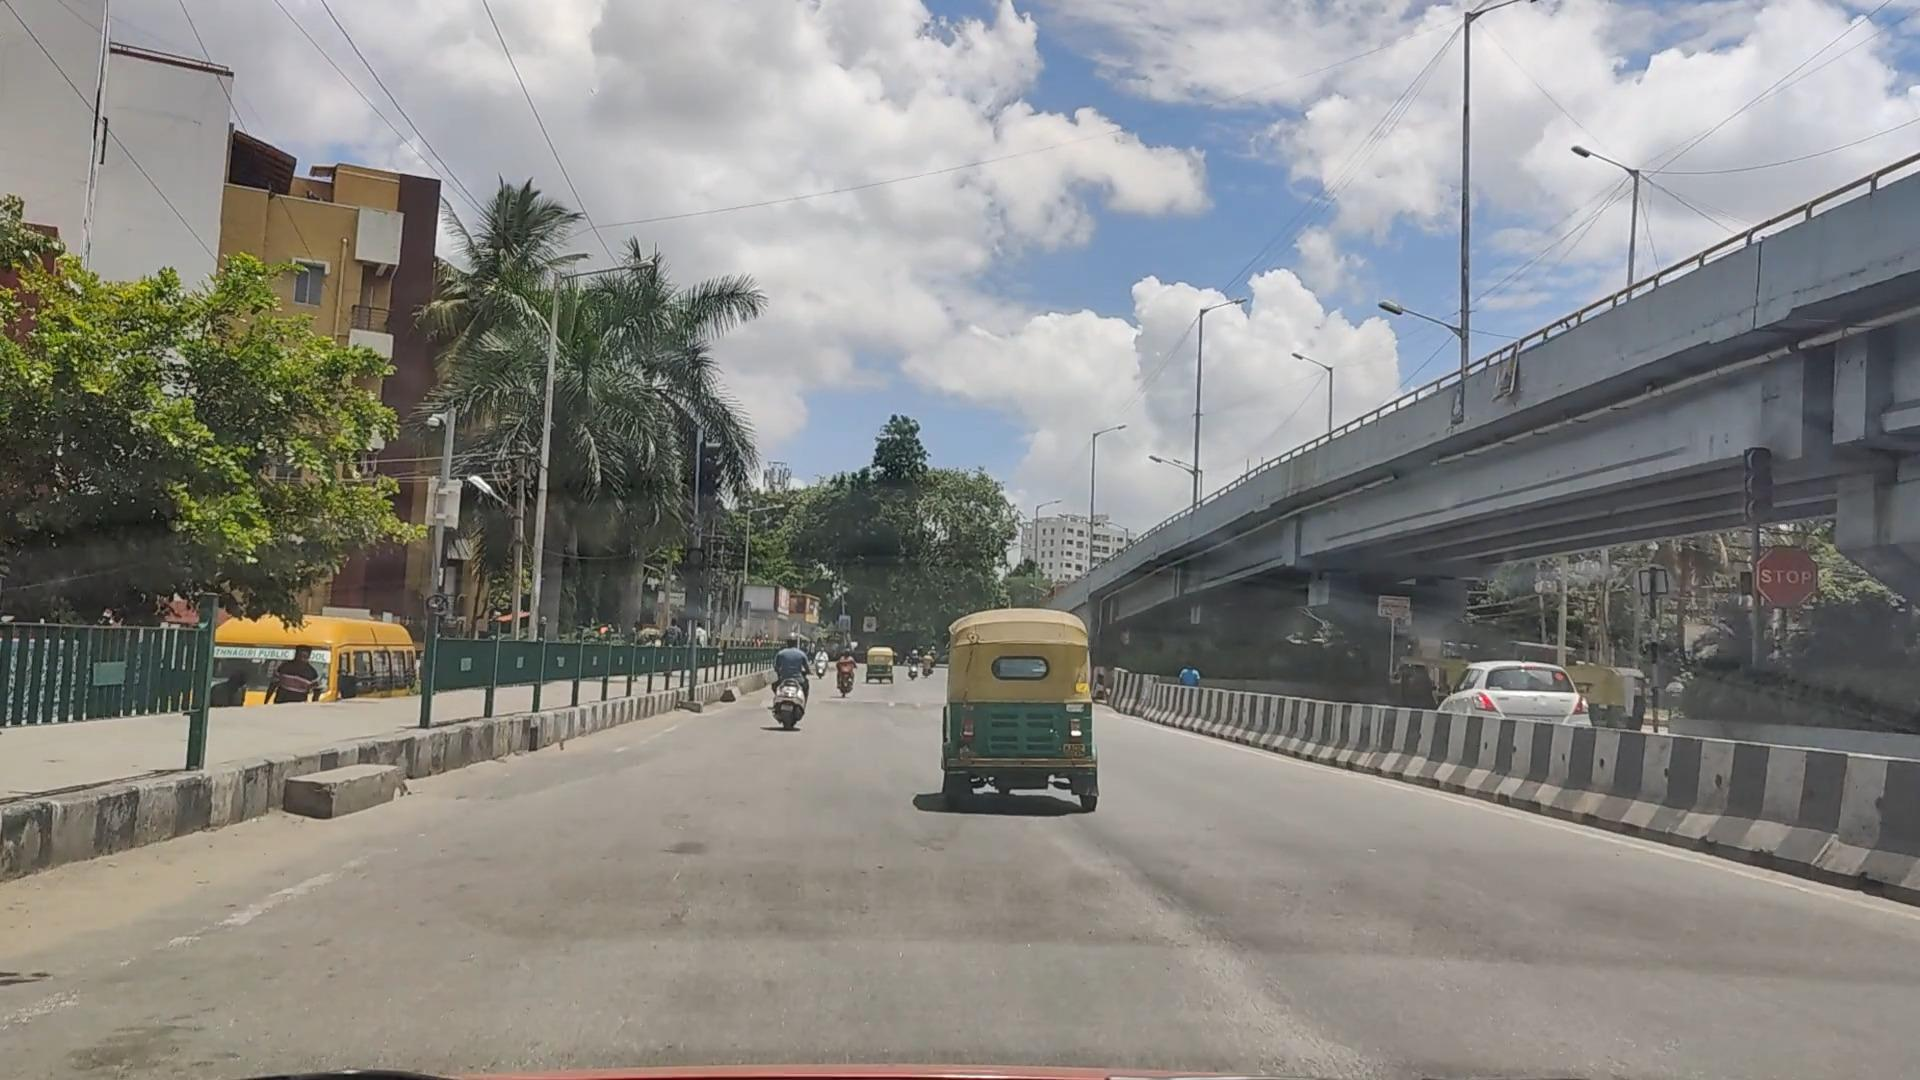LMV: (940, 611, 1101, 812)
RoadDamages: (1143, 922, 1340, 1071)
